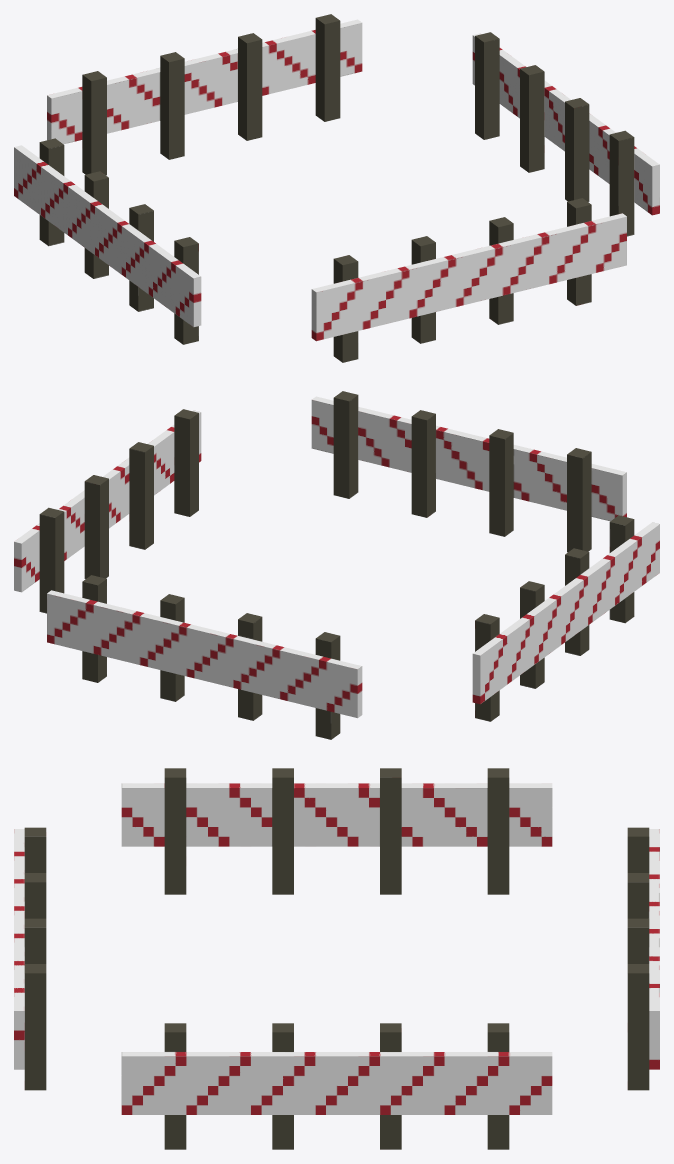
File: roadblock.glb
3 views of the same model, one above another, from view 1: azimuth 30°, elevation 25°; view 2: azimuth 150°, elevation 25°; view 3: azimuth 270°, elevation 25° (orthographic). The views are drawn at different scales.
Parts seen in each view (by area): view 1: roadblock; view 2: roadblock; view 3: roadblock.
Part boxes in pixels (box(x1,y1,x2,y2)): roadblock: box(14, 14, 659, 362); roadblock: box(14, 391, 659, 739); roadblock: box(14, 768, 659, 1149).
Size of the model in its own units: 6 by 1.2 by 6.
Materials: 1 (1 with a texture image).
